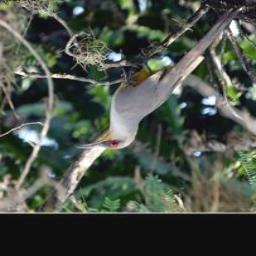Cuckoo: (73, 4, 245, 152)
